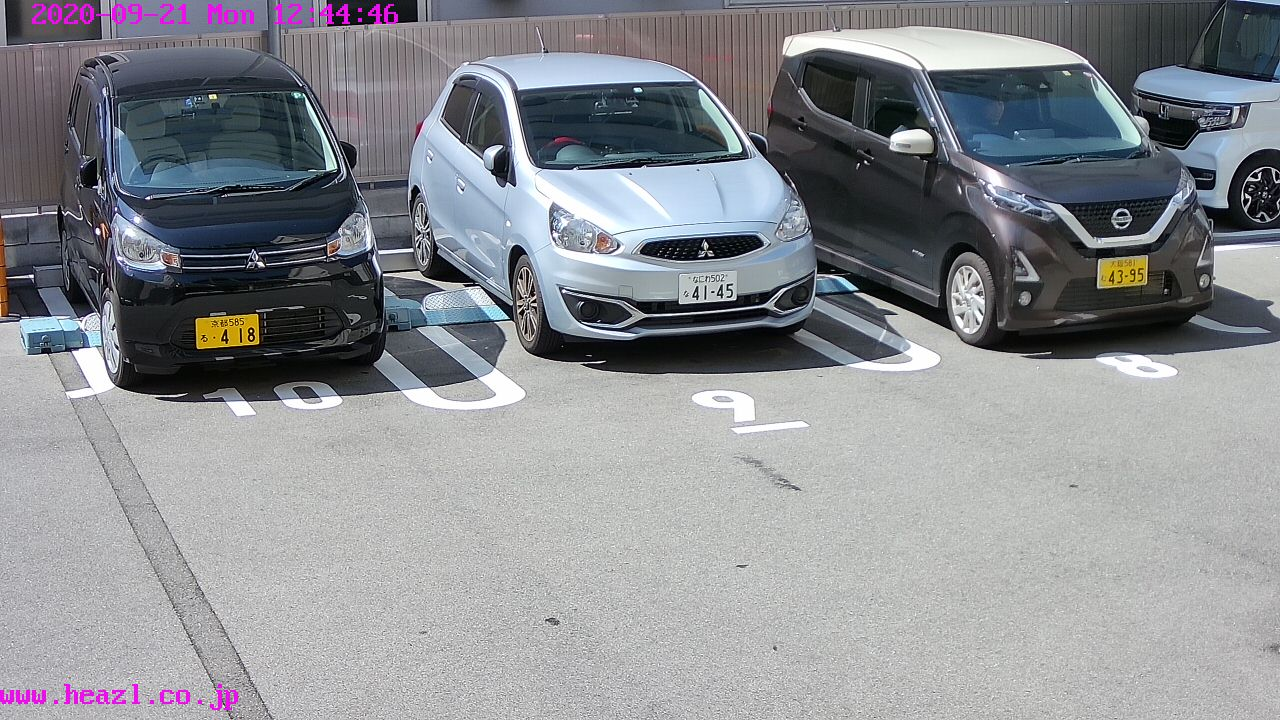number_plate: (193, 315, 261, 346), (1095, 255, 1150, 289), (678, 272, 738, 303)
